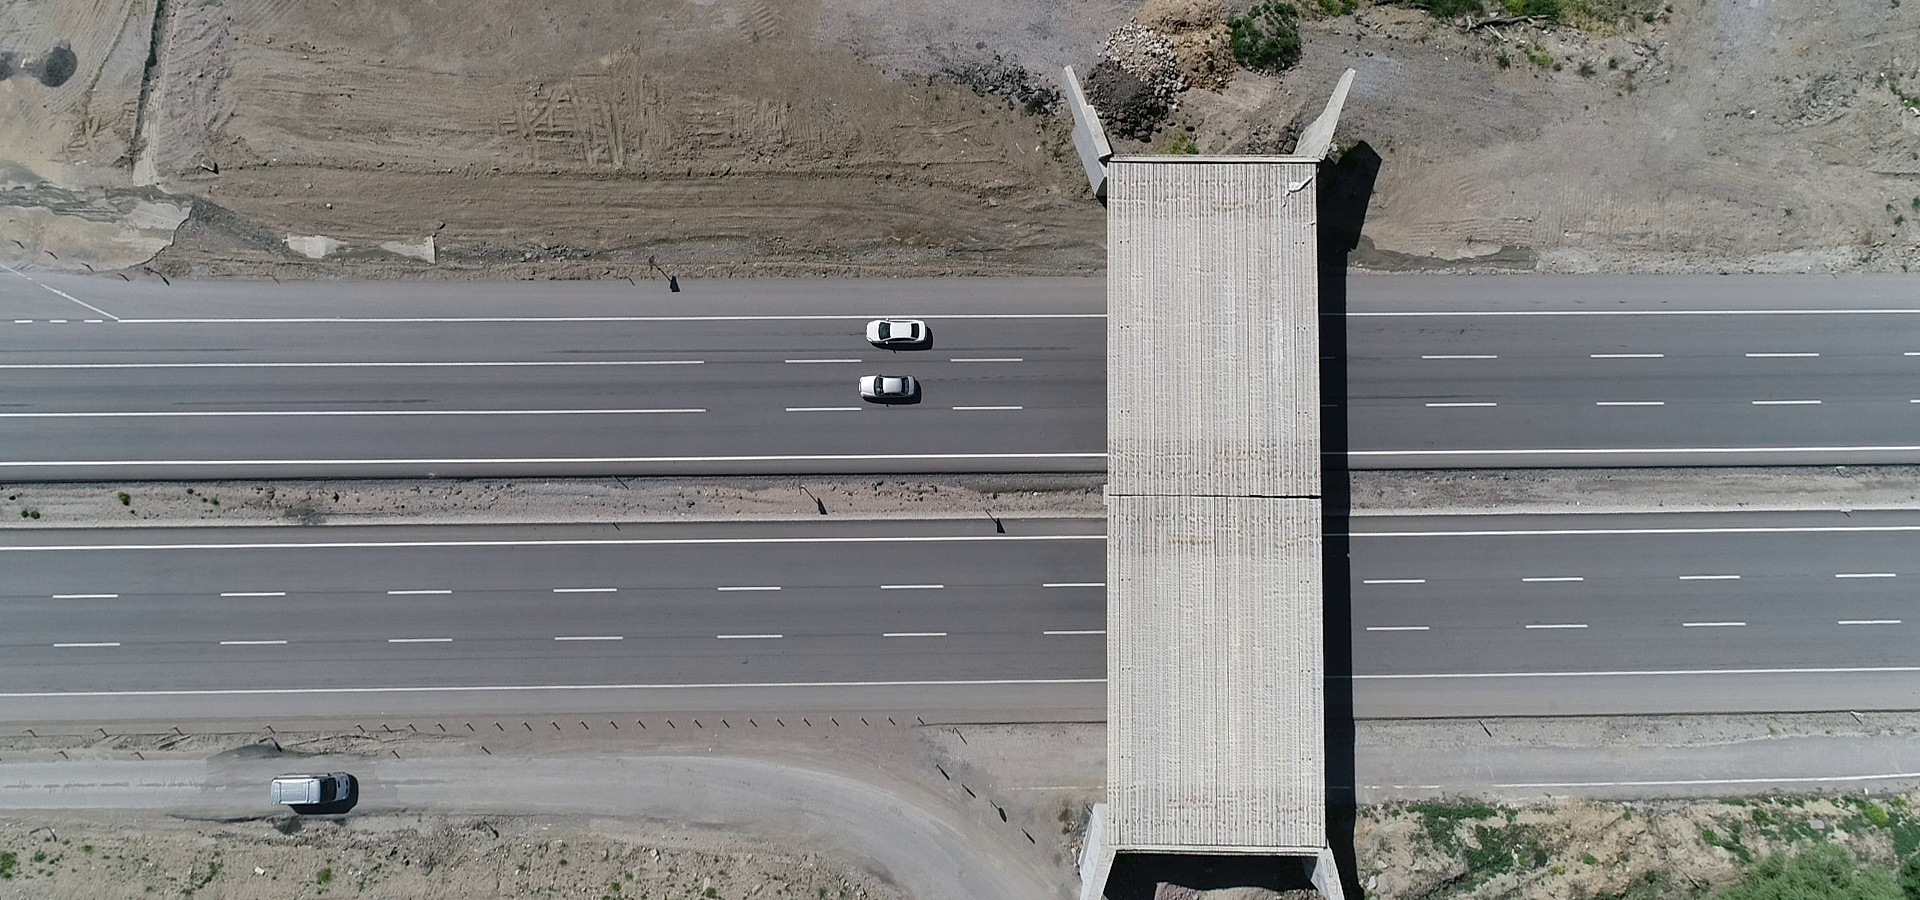araba: (262, 765, 358, 819), (857, 362, 926, 408), (867, 310, 933, 347)
